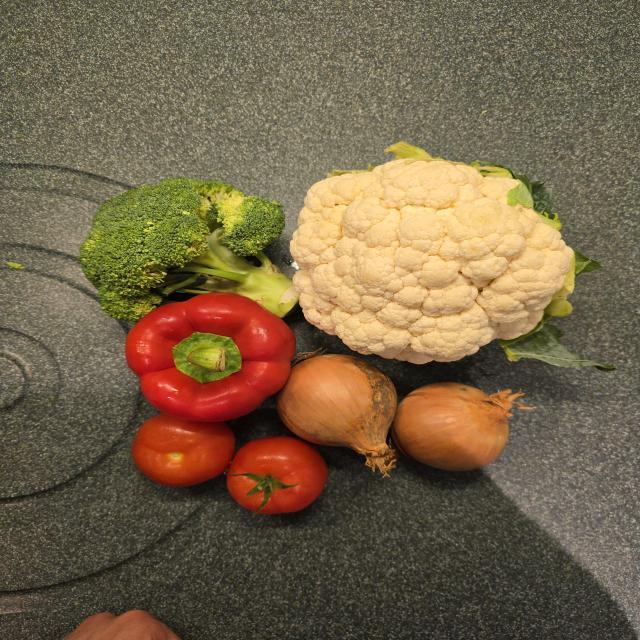Bell Pepper: (126, 293, 295, 422)
Broccoli: (79, 178, 299, 322)
Cauliflower: (290, 143, 574, 363)
Onion: (277, 352, 399, 476), (391, 383, 524, 470)
Tomato: (227, 437, 327, 514), (132, 414, 235, 486)
